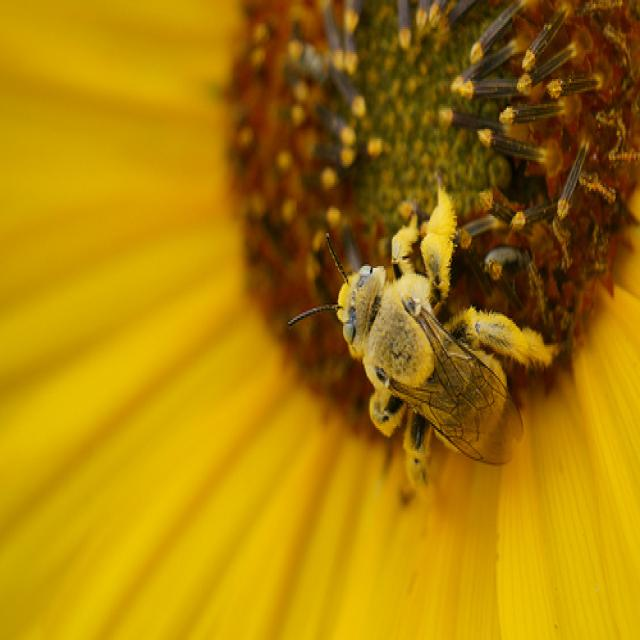sunflower: (115, 3, 640, 512)
